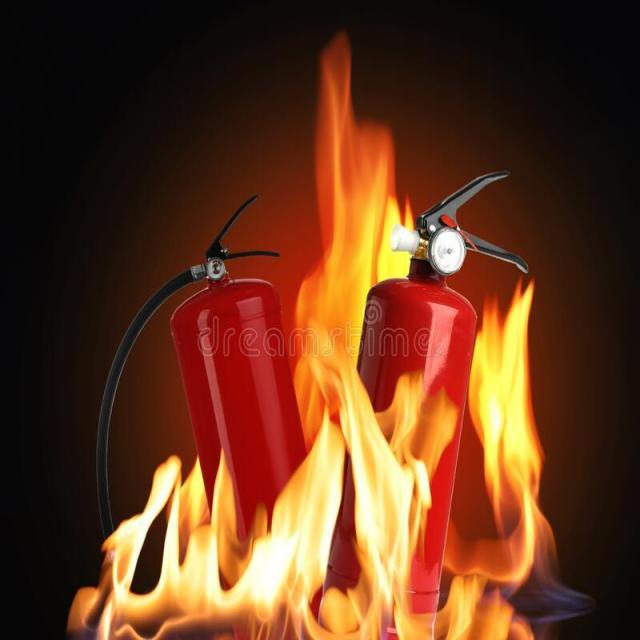fire_extinguisher: (88, 184, 330, 639), (308, 160, 534, 639)
